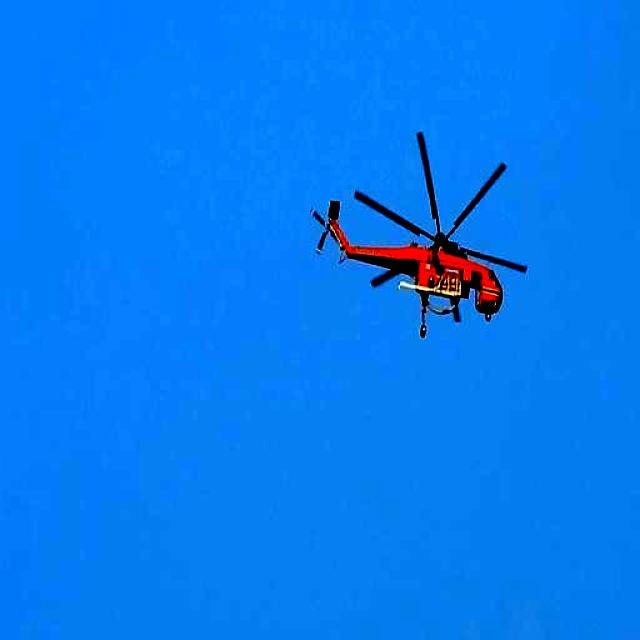drone: (314, 131, 530, 344)
